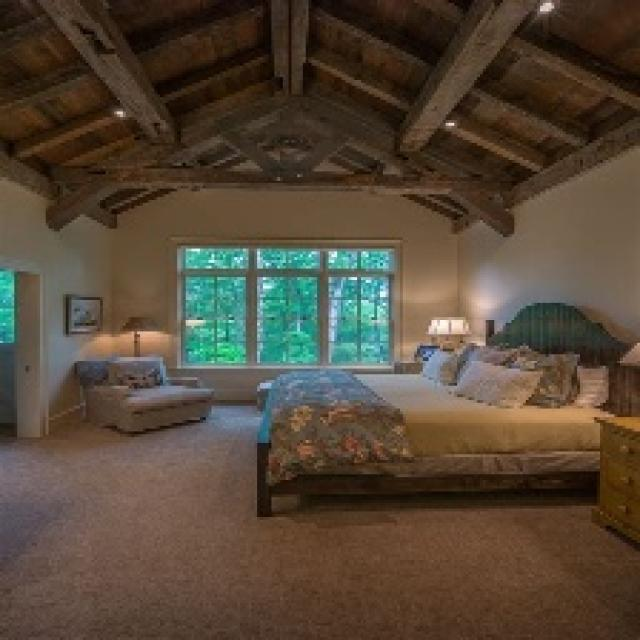Bed: (254, 300, 637, 514)
